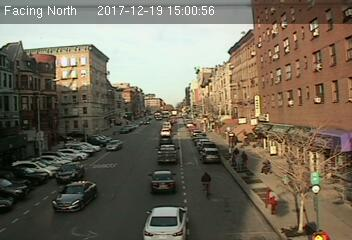bicycle: (200, 169, 212, 200)
car: (141, 205, 191, 240), (50, 180, 97, 213), (148, 170, 178, 193), (54, 161, 84, 183), (155, 144, 181, 163), (199, 147, 221, 163), (106, 138, 121, 151), (159, 127, 171, 136)
